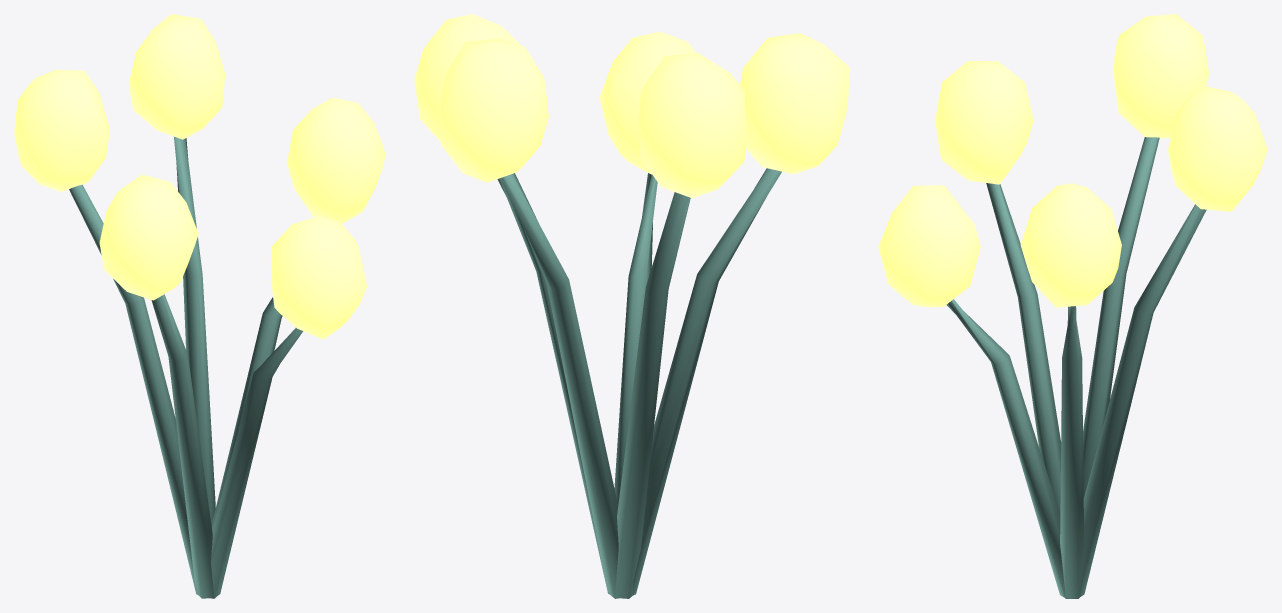
The model's file is fk_sacred_herb.fbx.
The picture shows the model from 3 angles, left to right: view 1: azimuth 30°, elevation 25°; view 2: azimuth 150°, elevation 25°; view 3: azimuth 270°, elevation 25°; orthographic projection. The views are drawn at different scales.
Parts seen in each view (by area): view 1: fk_sacred_herb; view 2: fk_sacred_herb; view 3: fk_sacred_herb.
Boxes of the visible parts, box(x1,y1,x2,y2) form: fk_sacred_herb: box(14, 14, 385, 598); fk_sacred_herb: box(414, 14, 849, 598); fk_sacred_herb: box(878, 14, 1267, 598).
Size of the model in its own units: 44.21 by 69.41 by 46.39.
